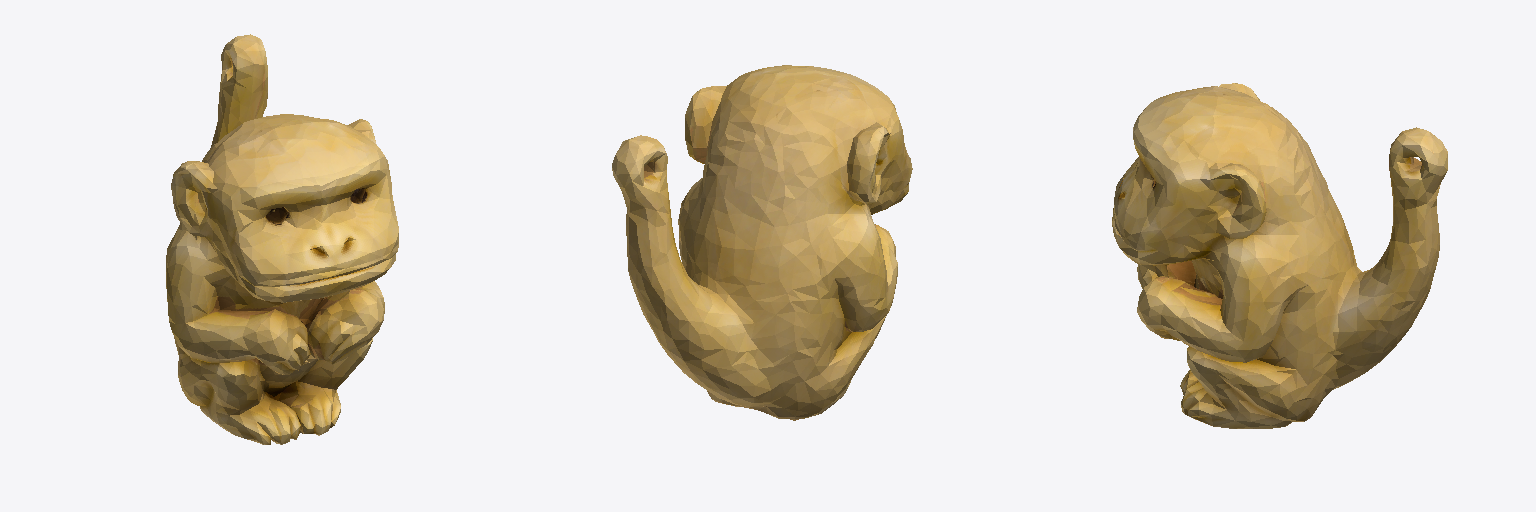
The picture shows the model from 3 angles: view 1: azimuth 30°, elevation 25°; view 2: azimuth 150°, elevation 25°; view 3: azimuth 270°, elevation 25°; orthographic projection.
Parts seen in each view (by area): view 1: Sculpted_Curiosity_[number redacted]_texture; view 2: Sculpted_Curiosity_[number redacted]_texture; view 3: Sculpted_Curiosity_[number redacted]_texture.
Part boxes in pixels (x1,y1,x2,y2): Sculpted_Curiosity_[number redacted]_texture: (166,34,398,444); Sculpted_Curiosity_[number redacted]_texture: (612,65,912,420); Sculpted_Curiosity_[number redacted]_texture: (1112,83,1447,428).
Bounding box in the file's own units: 1.37 × 2 × 2.
1 materials, 1 textured.